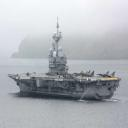Portanaves: (8, 15, 124, 101)
